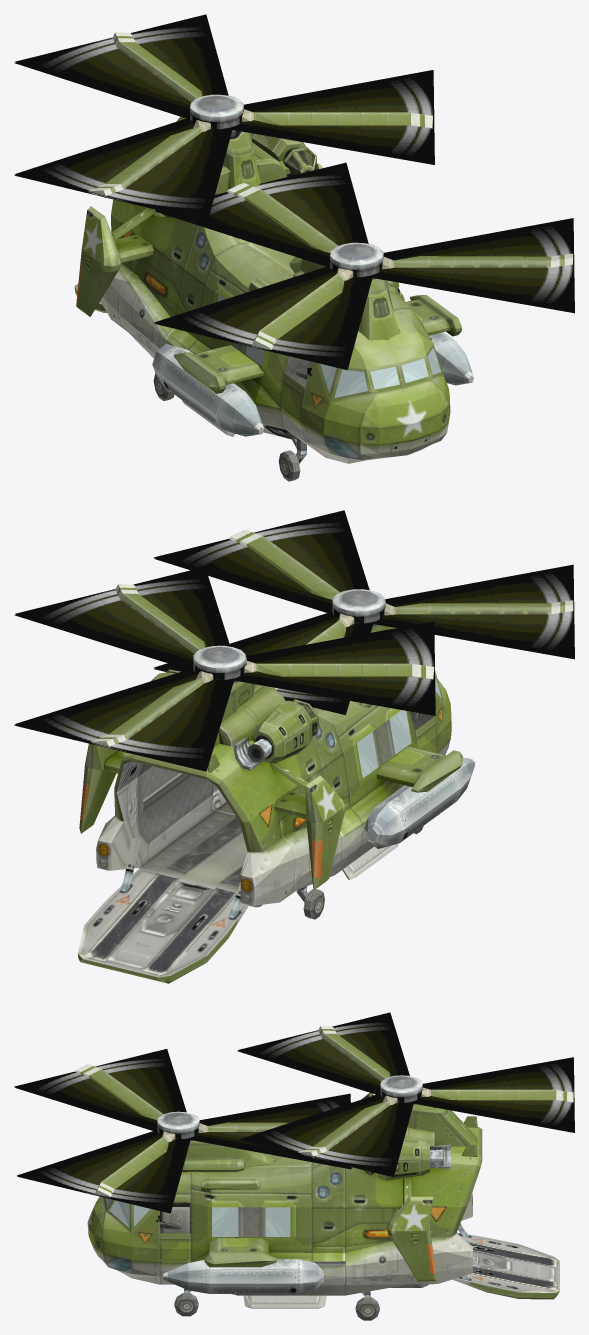
Rendered from VWFTPTH.bgf.obj.
3 renders of one model, top to bottom at view 1: azimuth 30°, elevation 25°; view 2: azimuth 150°, elevation 25°; view 3: azimuth 270°, elevation 25°, orthographic. The views are drawn at different scales.
Parts seen in each view (by area): view 1: VWFTPT, TAIL_ROTOR_FAST01, MAIN_ROTOR_FAST, MAIN_ROTOR_SLOW, TAIL_ROTOR_SLOW01, GLASS, R_WHEEL_A; view 2: VWFTPT, TAIL_ROTOR_FAST01, MAIN_ROTOR_FAST, RAMP, TAIL_ROTOR_SLOW01, MAIN_ROTOR_SLOW, GLASS, R_WHEEL_B; view 3: VWFTPT, TAIL_ROTOR_FAST01, MAIN_ROTOR_FAST, TAIL_ROTOR_SLOW01, RAMP, MAIN_ROTOR_SLOW, GLASS, L_WHEEL_B, L_WHEEL_A.
Part boxes in pixels (bbox=[...]): VWFTPT: bbox=[76, 117, 473, 463]; TAIL_ROTOR_FAST01: bbox=[14, 14, 434, 221]; MAIN_ROTOR_FAST: bbox=[154, 162, 574, 370]; MAIN_ROTOR_SLOW: bbox=[227, 183, 573, 349]; TAIL_ROTOR_SLOW01: bbox=[88, 32, 432, 198]; GLASS: bbox=[217, 295, 441, 397]; R_WHEEL_A: bbox=[278, 438, 306, 481]; VWFTPT: bbox=[79, 625, 475, 907]; TAIL_ROTOR_FAST01: bbox=[14, 567, 435, 771]; MAIN_ROTOR_FAST: bbox=[153, 510, 574, 714]; RAMP: bbox=[77, 838, 248, 983]; TAIL_ROTOR_SLOW01: bbox=[90, 584, 434, 748]; MAIN_ROTOR_SLOW: bbox=[229, 529, 573, 690]; GLASS: bbox=[357, 675, 441, 778]; R_WHEEL_B: bbox=[296, 886, 324, 919]; VWFTPT: bbox=[87, 1093, 482, 1308]; TAIL_ROTOR_FAST01: bbox=[237, 1012, 574, 1177]; MAIN_ROTOR_FAST: bbox=[14, 1049, 351, 1213]; TAIL_ROTOR_SLOW01: bbox=[298, 1026, 573, 1158]; RAMP: bbox=[452, 1223, 559, 1299]; MAIN_ROTOR_SLOW: bbox=[75, 1064, 288, 1197]; GLASS: bbox=[105, 1198, 290, 1236]; L_WHEEL_B: bbox=[355, 1291, 379, 1320]; L_WHEEL_A: bbox=[174, 1288, 198, 1316].
Size of the model in its own units: 16.35 by 9.83 by 23.64.
Materials: 19 (19 with a texture image).
